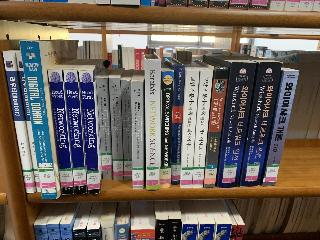book-spine: (20, 39, 57, 201), (212, 59, 257, 191), (237, 58, 282, 190), (260, 68, 300, 188), (3, 50, 34, 194), (16, 52, 41, 192), (201, 65, 229, 189), (48, 68, 74, 195), (64, 68, 87, 194), (190, 70, 213, 188), (79, 70, 100, 194), (179, 70, 199, 188), (146, 59, 160, 190), (159, 71, 174, 189), (170, 64, 184, 185), (96, 78, 112, 179), (109, 77, 124, 180), (131, 82, 144, 189), (121, 80, 132, 179)
